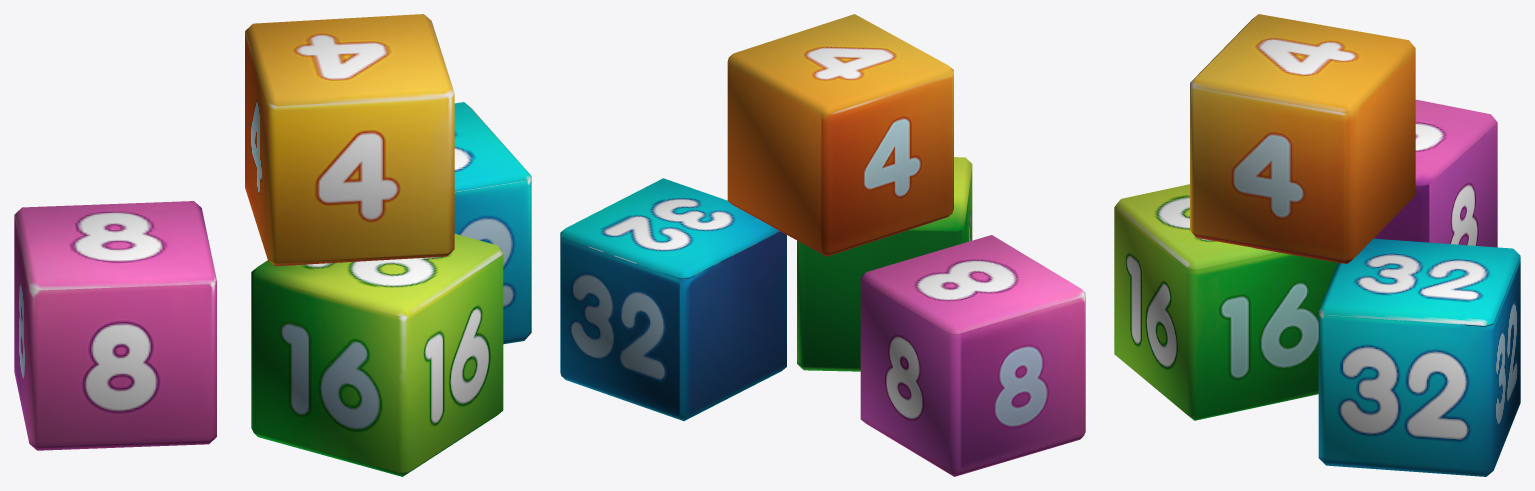
Rendered from model_btn_mini_game_cube.fbx.
3 renders of one model, left to right at view 1: azimuth 30°, elevation 25°; view 2: azimuth 150°, elevation 25°; view 3: azimuth 270°, elevation 25°, orthographic. The views are drawn at different scales.
Parts seen in each view (by area): view 1: model_btn_mini_game_cube.002; view 2: model_btn_mini_game_cube.002; view 3: model_btn_mini_game_cube.002.
Part boxes in pixels (x1=…): model_btn_mini_game_cube.002: x1=14, y1=14, x2=531, y2=476; model_btn_mini_game_cube.002: x1=560, y1=14, x2=1085, y2=476; model_btn_mini_game_cube.002: x1=1114, y1=14, x2=1520, y2=476.
Size of the model in its own units: 91.3 by 57.66 by 66.16.
